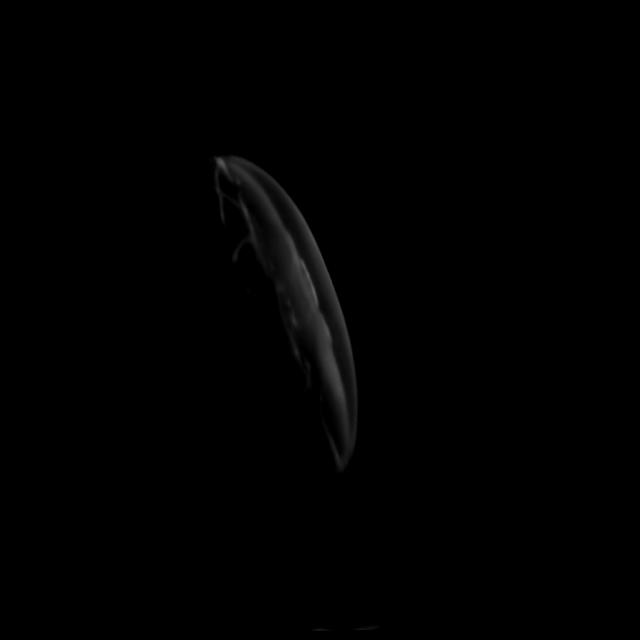Moon-jellyfish: (205, 153, 359, 488)
